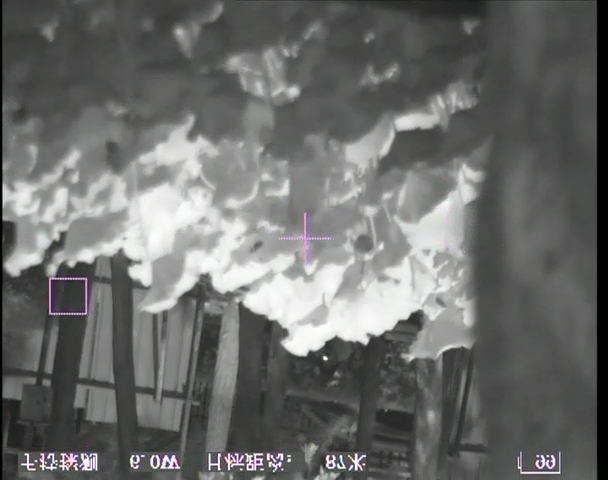my: (321, 354, 329, 362)
